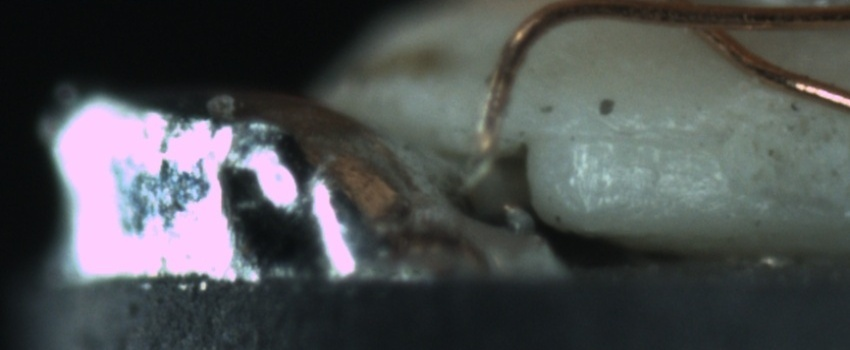CL: (651, 1, 762, 43)
DL: (537, 105, 709, 169)
